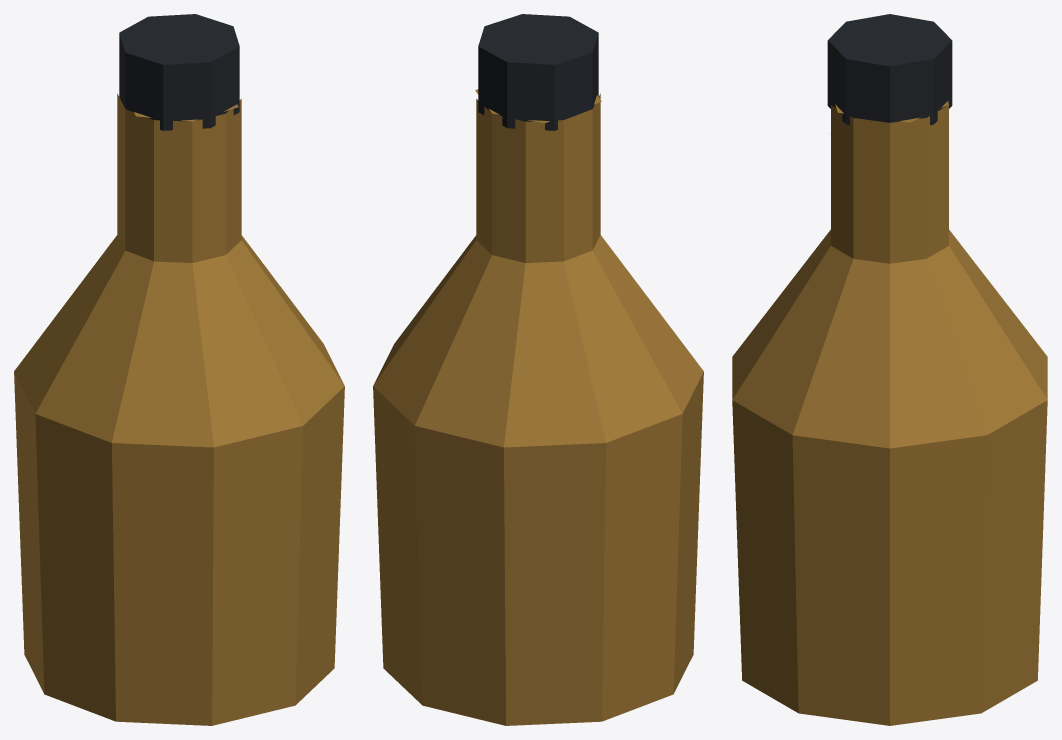
File: spicebrew.lod.glb
The picture shows the model from 3 angles, left to right: view 1: azimuth 30°, elevation 25°; view 2: azimuth 150°, elevation 25°; view 3: azimuth 270°, elevation 25°; orthographic projection.
Parts seen in each view (by area): view 1: m; view 2: m; view 3: m.
Boxes of the visible parts, <box> form: m: <box>14,14,344,725</box>; m: <box>373,14,703,725</box>; m: <box>732,14,1047,725</box>.
Bounding box in the file's own units: 0.064 × 0.132 × 0.0609.
